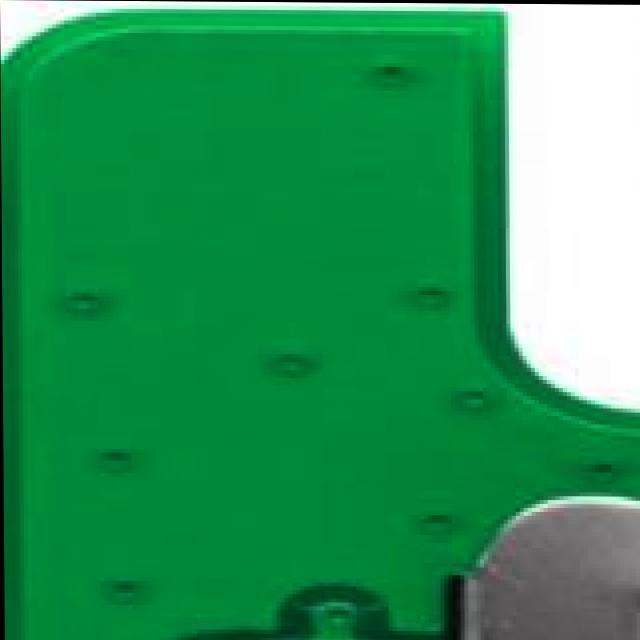battery: (239, 445, 640, 640)
